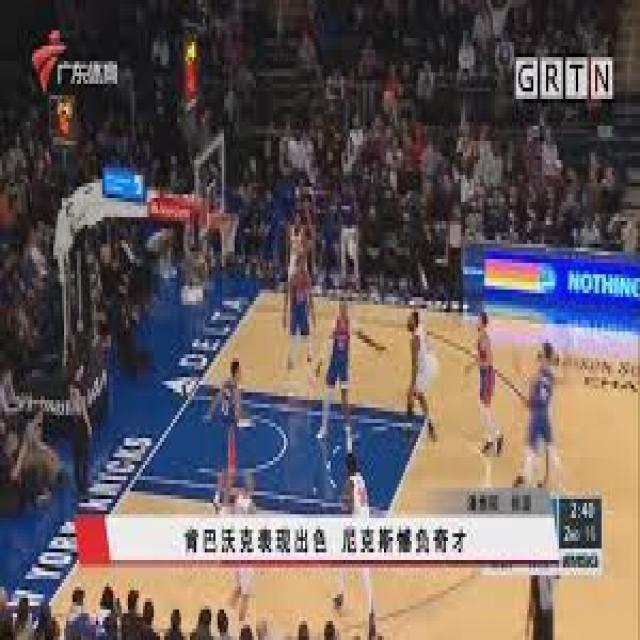rim: (226, 252, 241, 278)
